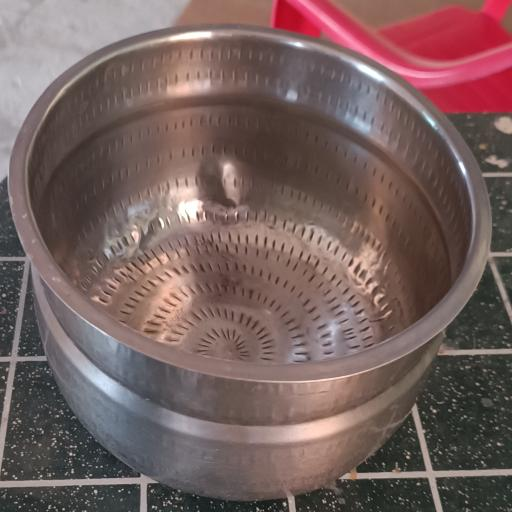vessel: (9, 26, 490, 499)
